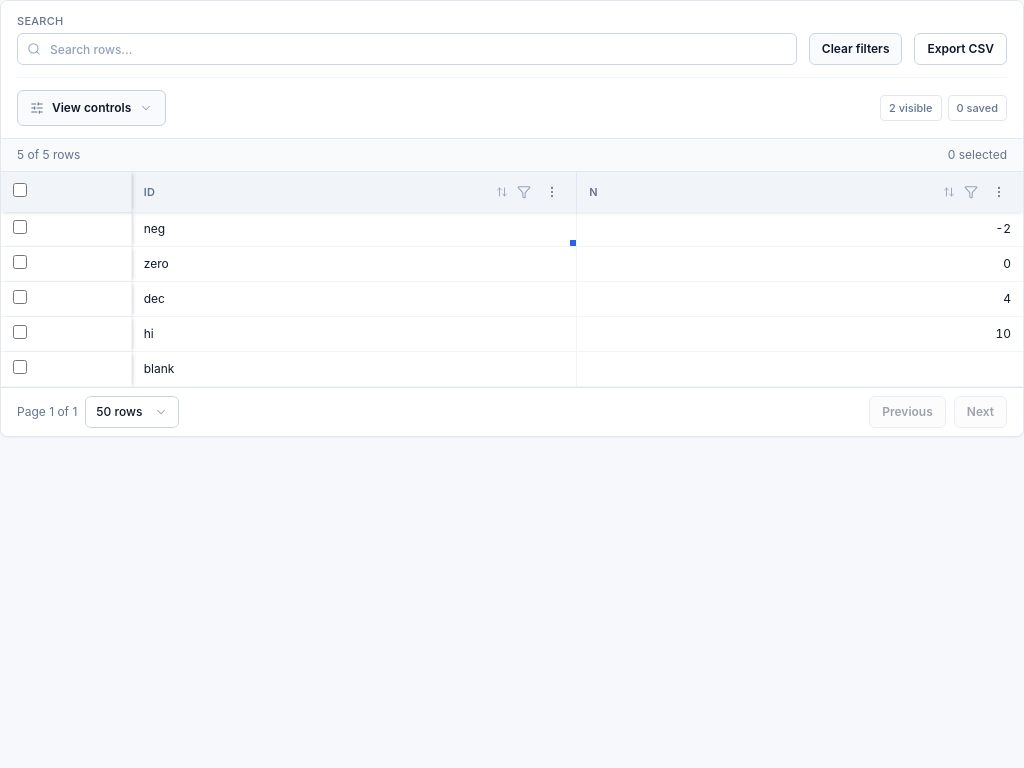
type-aware filter predicate coverage › number: max-only keeps rows <= max
Click the button named "N filter" at (971, 192), box [959, 180, 983, 204]
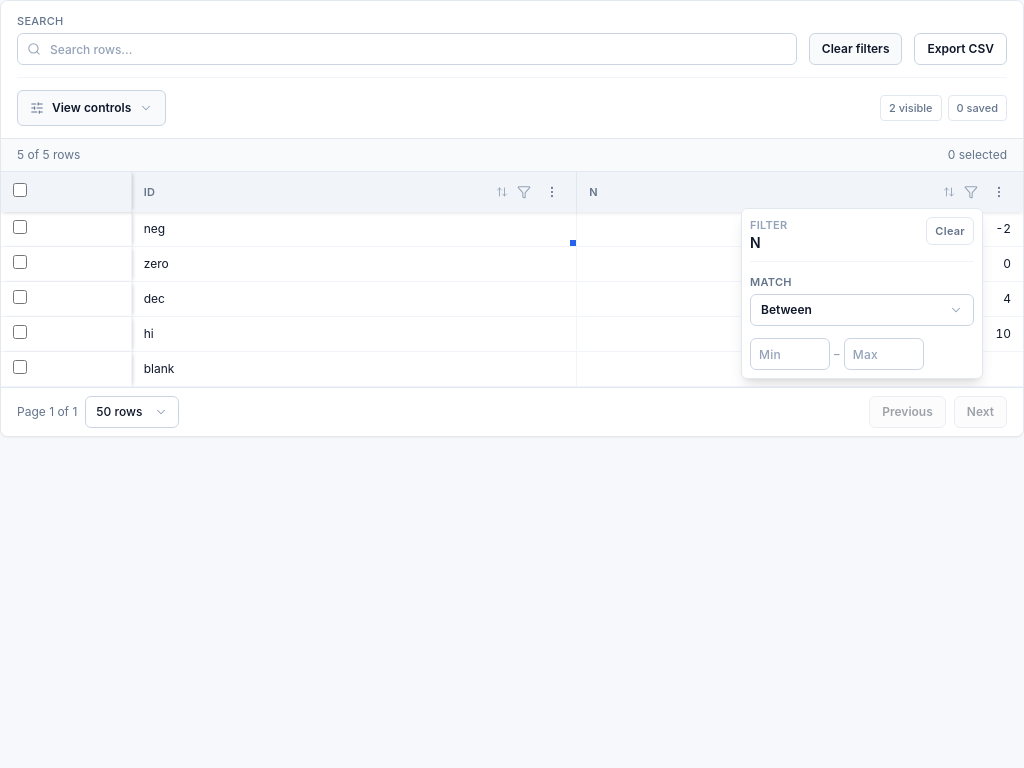
Type "0" into the number field named "N maximum" at (884, 354), box [844, 338, 924, 370]
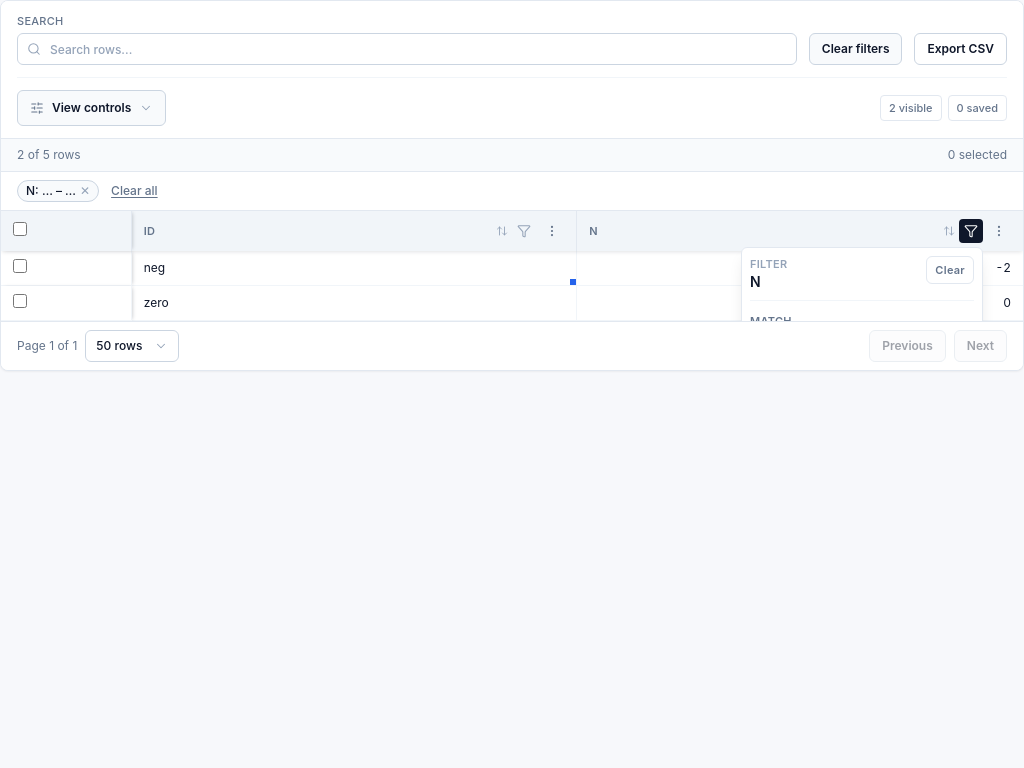
Result: the text "dec" is gone
Result: the text "hi" is gone
Result: the text "blank" is gone
